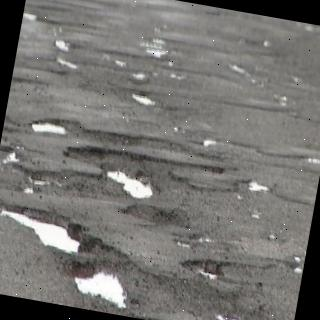pothole: (53, 224, 295, 320), (0, 149, 123, 197), (68, 145, 224, 176), (57, 119, 192, 151), (179, 259, 290, 292), (0, 211, 79, 256), (73, 275, 130, 309), (106, 172, 154, 200), (29, 119, 67, 138), (10, 75, 48, 89), (131, 93, 156, 109), (56, 58, 76, 70), (249, 181, 270, 192), (55, 40, 68, 52), (205, 139, 217, 148)
